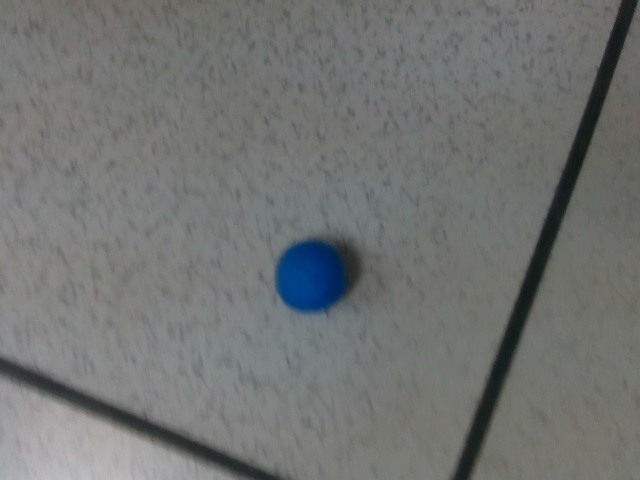blueball: (272, 237, 347, 312)
